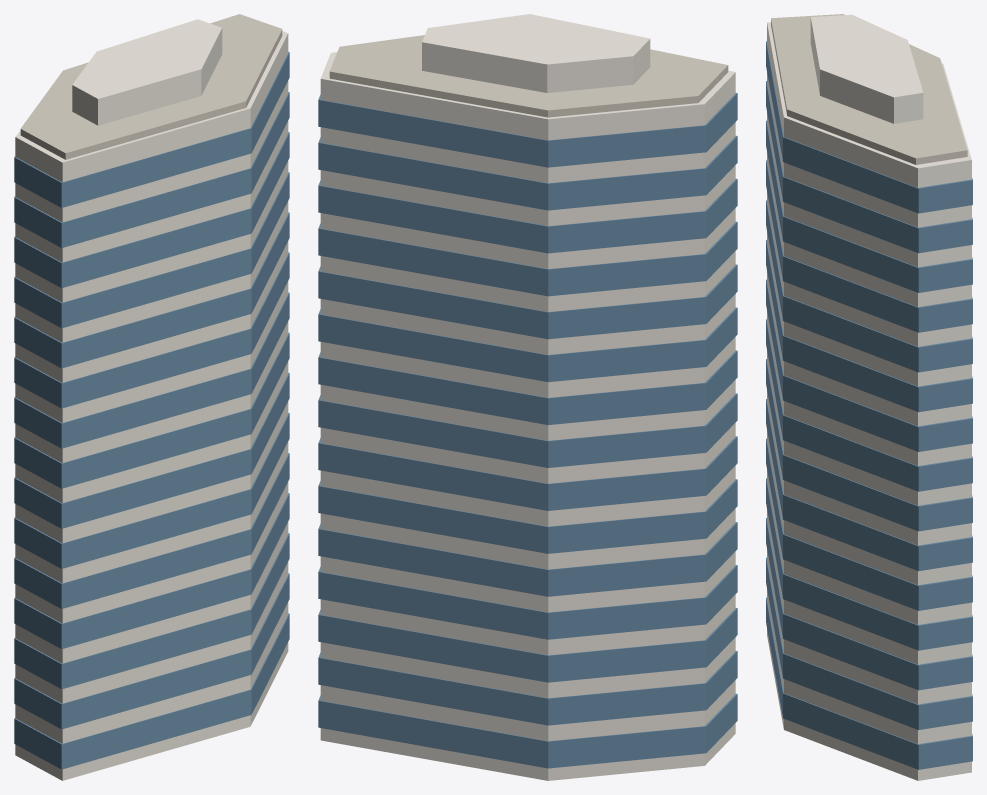
Rendered from m_tower.glb.
The picture shows the model from 3 angles, left to right: view 1: azimuth 30°, elevation 25°; view 2: azimuth 150°, elevation 25°; view 3: azimuth 270°, elevation 25°; orthographic projection. The views are drawn at different scales.
Visible parts, largest first — view 1: part; view 2: part; view 3: part.
Boxes of the visible parts, <box> form: part: <box>14,14,289,780</box>; part: <box>318,14,737,780</box>; part: <box>766,14,972,780</box>.
Bounding box in the file's own units: 59.04 × 117 × 33.98.
